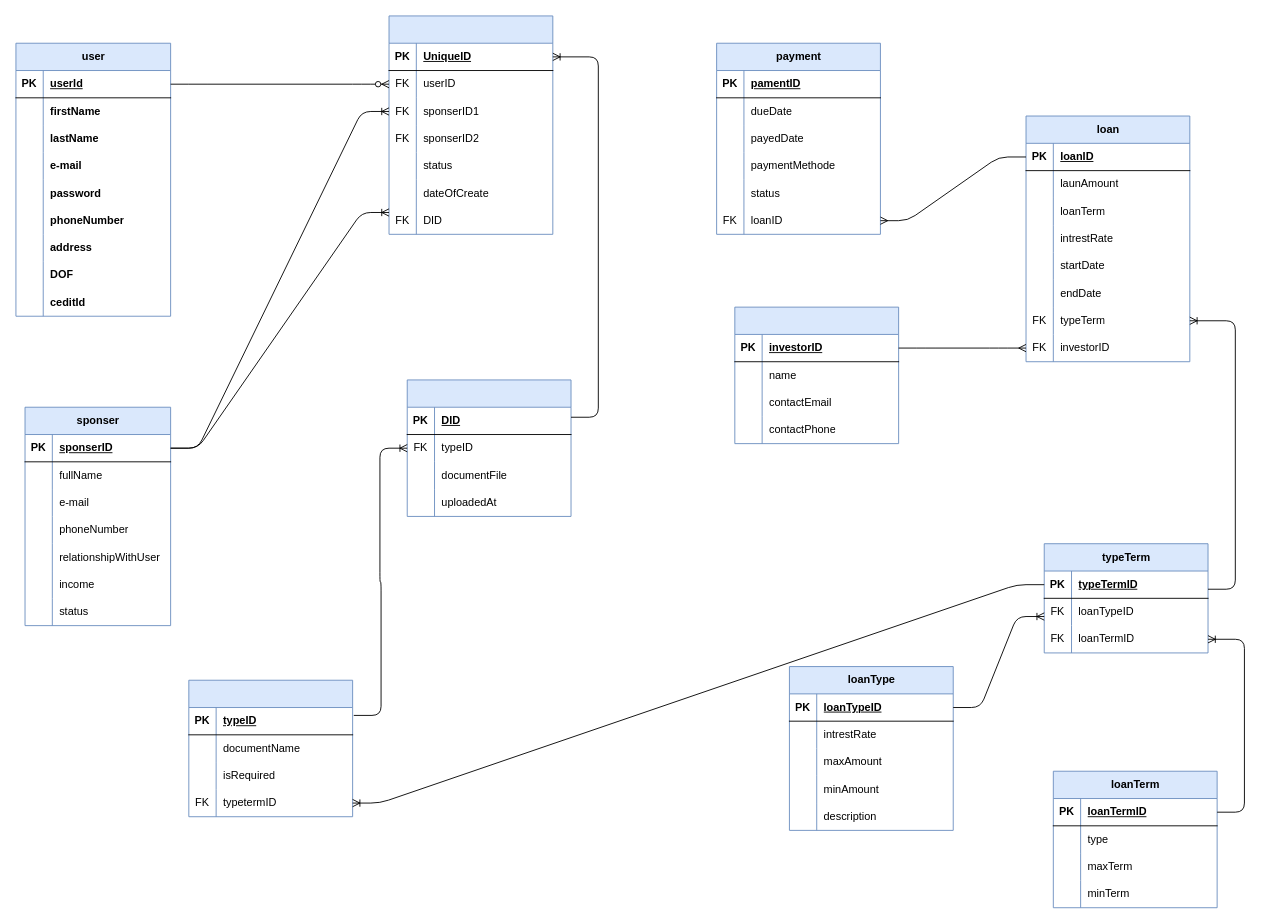
The diagram is 1268 pixels wide and 924 high, and some of its shapes have lost their labels. Each missing label, with the box of its shape:
additionalDocument: (406, 379, 571, 516)
additionalDocumentType: (188, 679, 353, 817)
contact: (388, 15, 553, 234)
investors: (734, 306, 899, 444)
